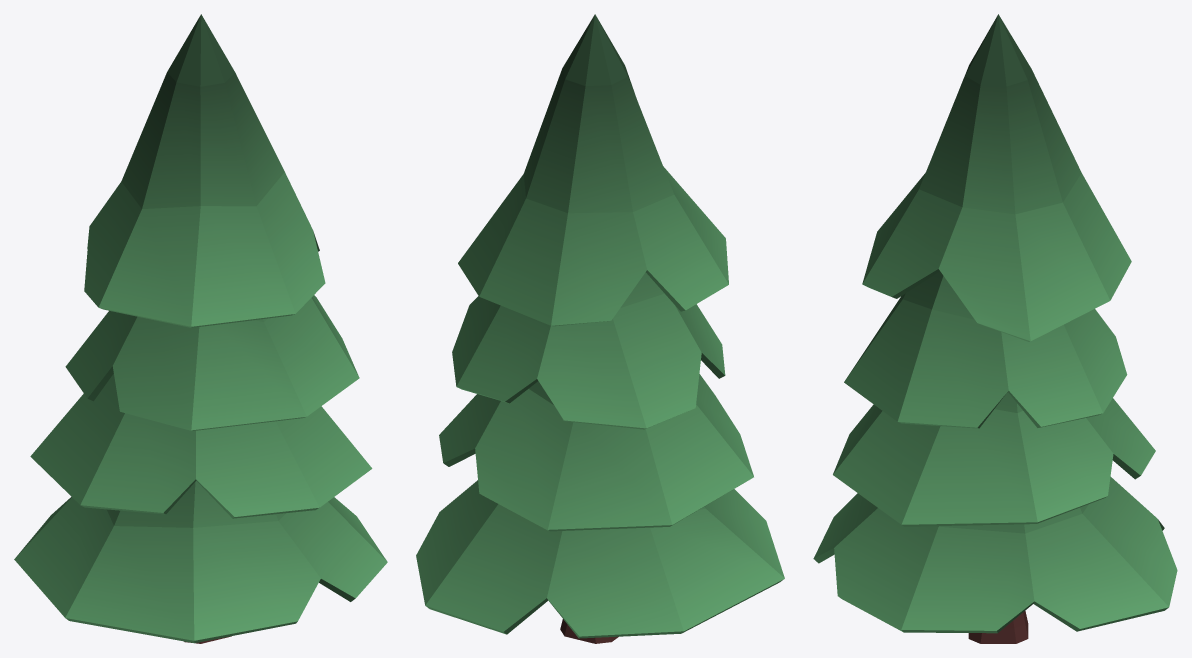
File: DarkPine5.fbx
The picture shows the model from 3 angles, left to right: view 1: azimuth 30°, elevation 25°; view 2: azimuth 150°, elevation 25°; view 3: azimuth 270°, elevation 25°; orthographic projection.
Visible parts, largest first — view 1: DarkPine5; view 2: DarkPine5; view 3: DarkPine5.
Part boxes in pixels (left/top/right/bottom): DarkPine5: left=14, top=14, right=387, bottom=643; DarkPine5: left=416, top=14, right=784, bottom=643; DarkPine5: left=813, top=14, right=1177, bottom=643.
Size of the model in its own units: 503 by 931 by 498.
